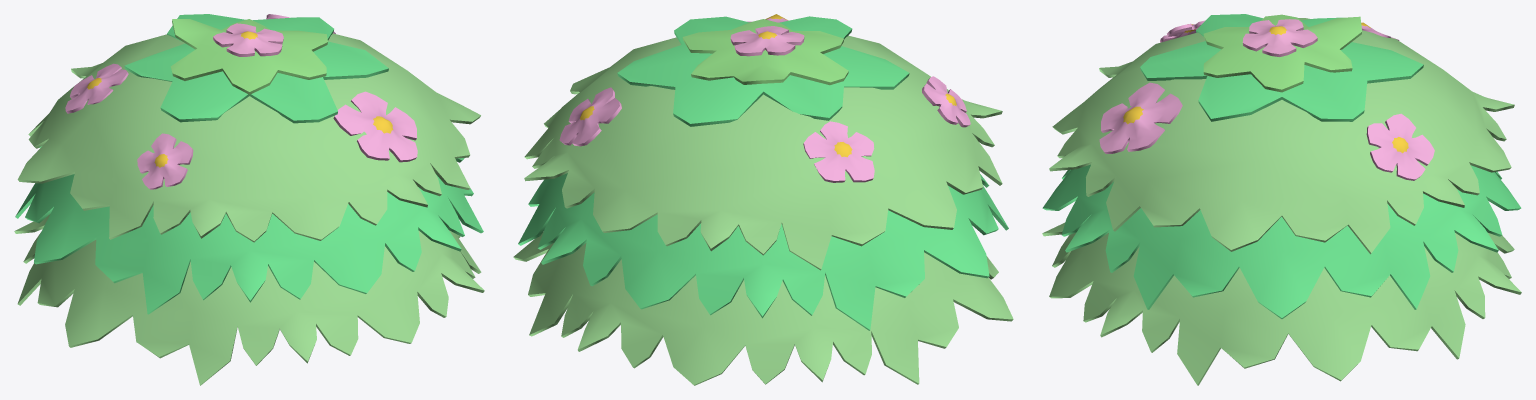
The model's file is Plant.fbx.
3 views of the same model, side by side, from view 1: azimuth 30°, elevation 25°; view 2: azimuth 150°, elevation 25°; view 3: azimuth 270°, elevation 25° (orthographic). The views are drawn at different scales.
Parts seen in each view (by area): view 1: Plant; view 2: Plant; view 3: Plant.
Boxes of the visible parts, x1,y1,x2,y2 form: Plant: (14,14,484,385); Plant: (513,14,1013,385); Plant: (1042,14,1521,385).
Size of the model in its own units: 4.35 by 2.51 by 4.12.
